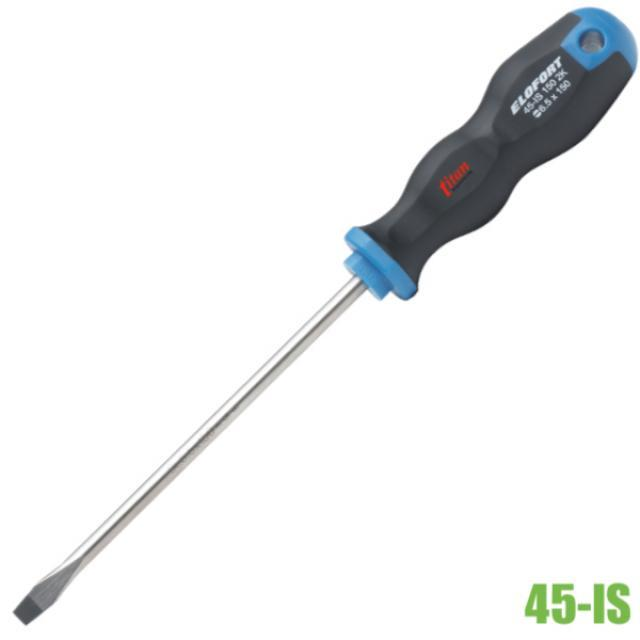screwdriver: (9, 0, 640, 631)
